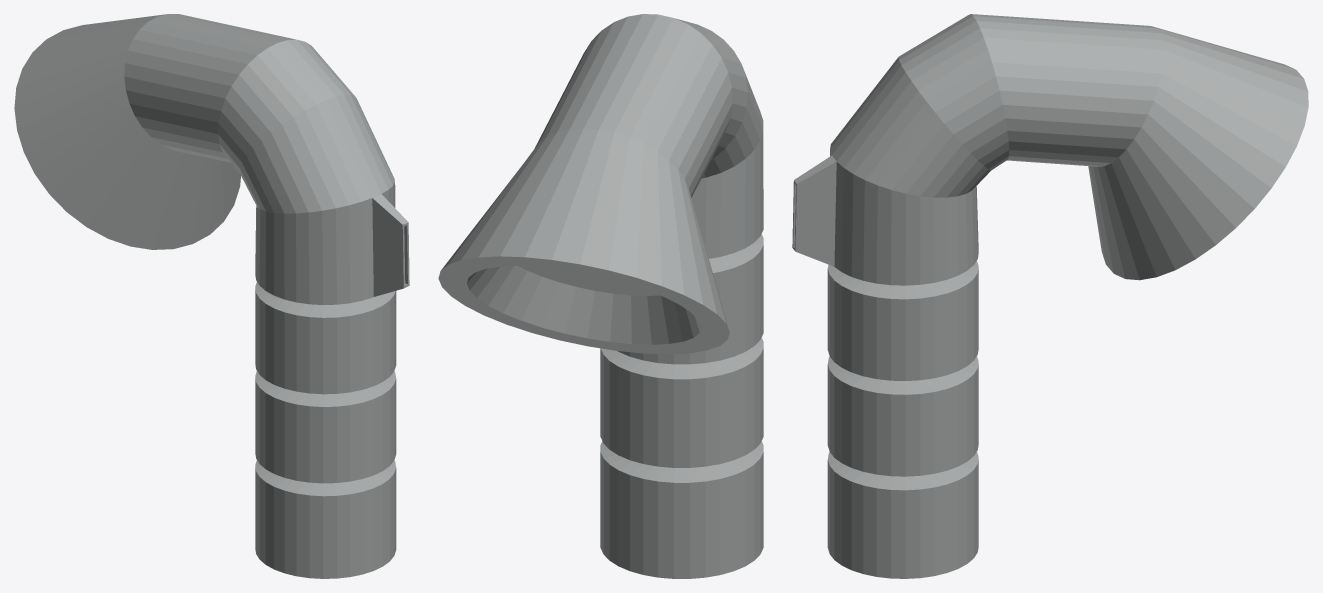
Rendered from lampa mini.fbx.
The picture shows the model from 3 angles, left to right: view 1: azimuth 30°, elevation 25°; view 2: azimuth 150°, elevation 25°; view 3: azimuth 270°, elevation 25°; orthographic projection. The views are drawn at different scales.
Parts seen in each view (by area): view 1: Circle.043; view 2: Circle.043; view 3: Circle.043.
Boxes of the visible parts, <box> form: Circle.043: <box>14,14,409,578</box>; Circle.043: <box>438,14,763,578</box>; Circle.043: <box>792,14,1308,578</box>.
Size of the model in its own units: 0.2845 by 0.58 by 0.5227.
